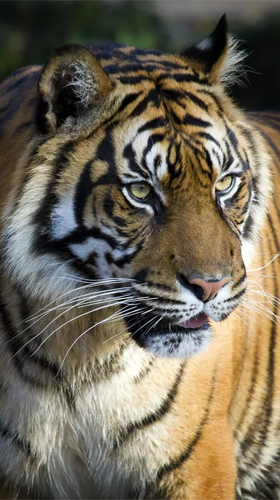Tigrew: (13, 18, 276, 420)
